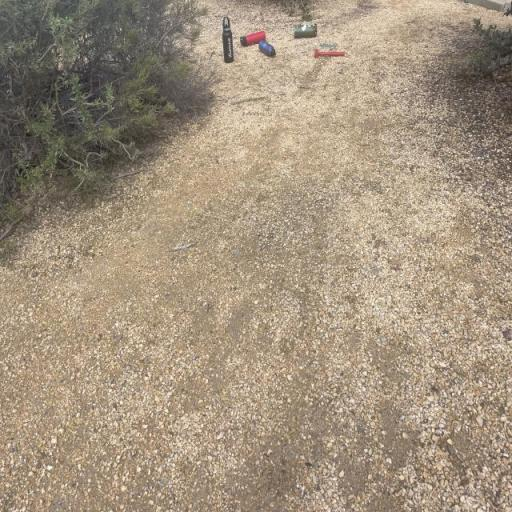bottle: (222, 16, 234, 62), (294, 22, 318, 38), (240, 32, 266, 46), (259, 40, 276, 58)
mallet: (314, 48, 344, 58)
